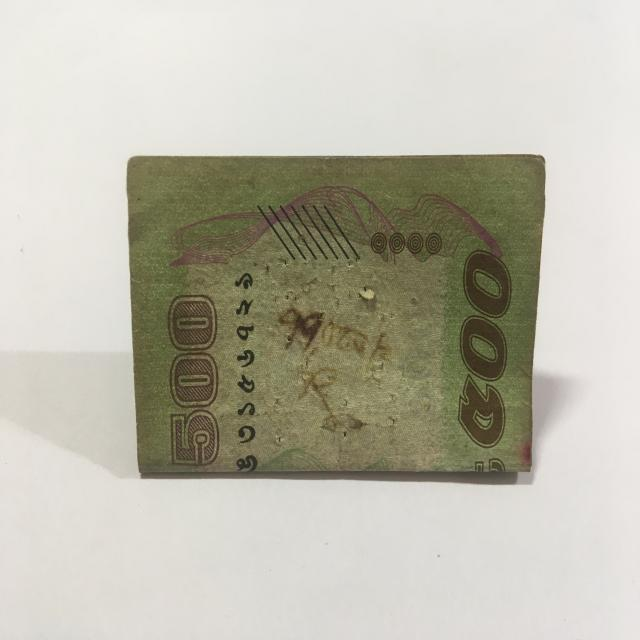Taka: (122, 147, 544, 477)
